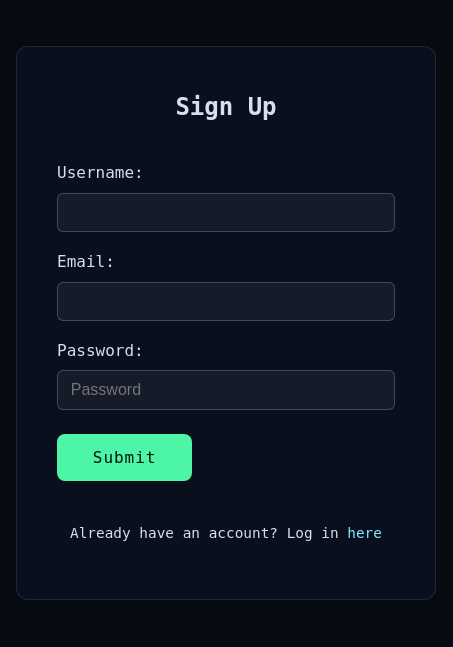
Test: Signup Page › navigates to /signup on unsuccessful signup
Type "test@email.com" into the field labelled "Email:" at (226, 301), box [57,282,395,321]
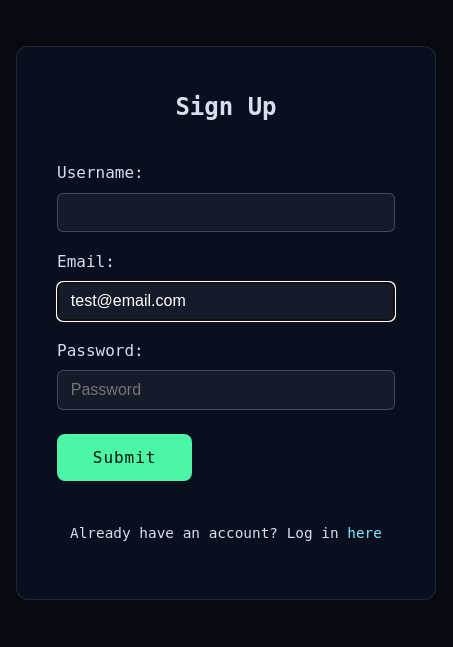
Type "12345678!" into the password field labelled "Password:" at (226, 390), box [57,370,395,410]
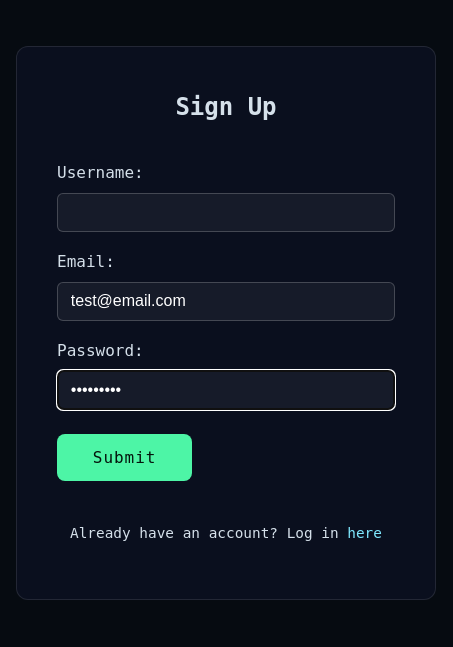
Type "testuser" into the field labelled "Username:" at (226, 212), box [57,193,395,232]
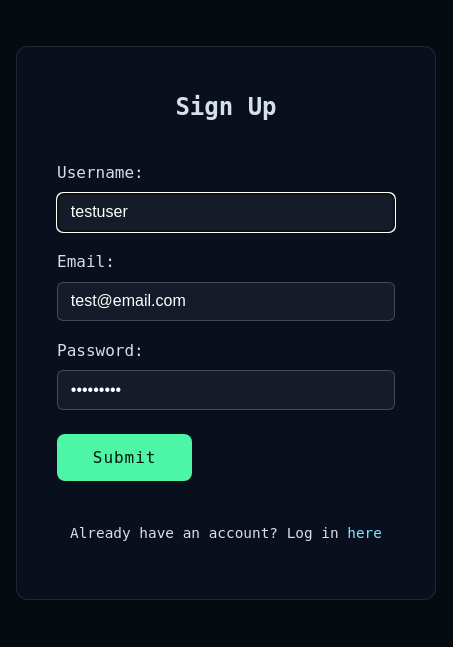
Click the button at (125, 457), box [57,434,192,481]
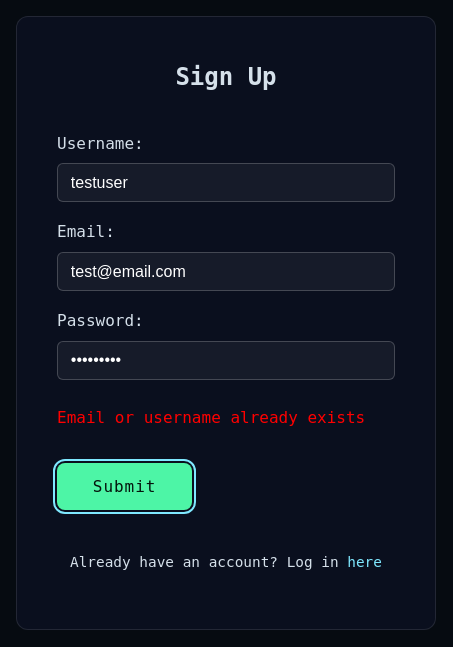
Result: the text "Email or username already exists" is shown at [57,404,395,431]
